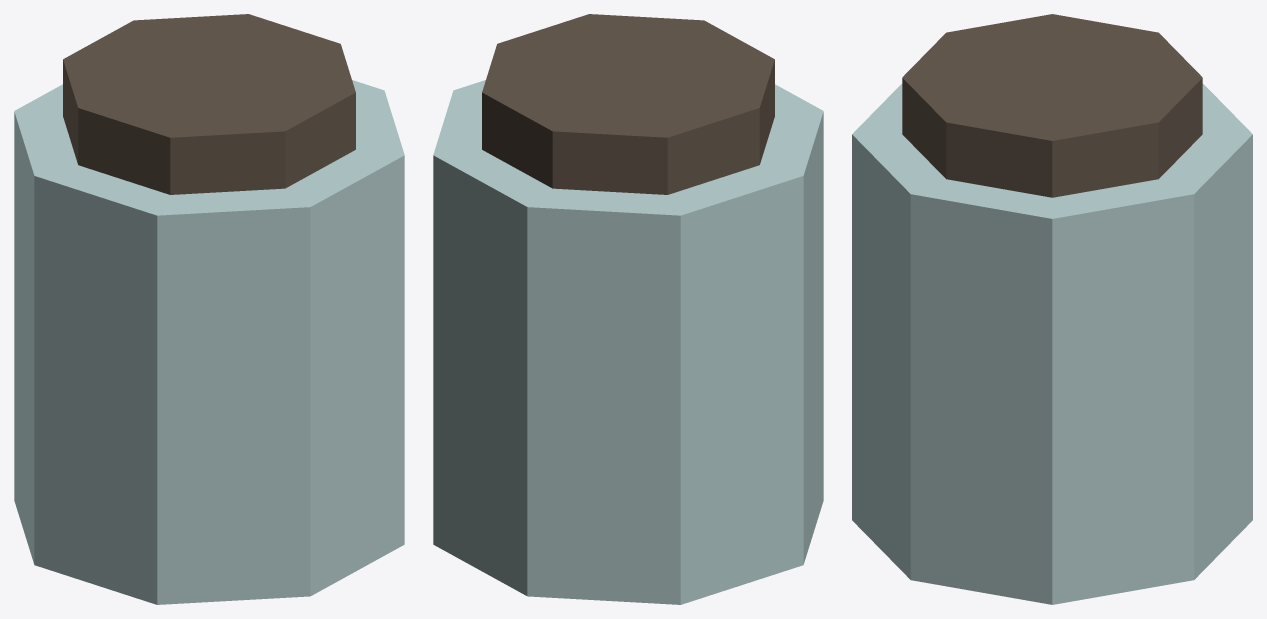
The model's file is hs_jar_tentacle.glb.
3 views of the same model, side by side, from view 1: azimuth 30°, elevation 25°; view 2: azimuth 150°, elevation 25°; view 3: azimuth 270°, elevation 25° (orthographic).
Visible parts, largest first — view 1: hs_jar_tentacle; view 2: hs_jar_tentacle; view 3: hs_jar_tentacle.
Part boxes in pixels (box(x1,y1,x2,y2)): hs_jar_tentacle: box(14, 14, 404, 604); hs_jar_tentacle: box(433, 14, 823, 604); hs_jar_tentacle: box(852, 14, 1252, 604).
Size of the model in its own units: 0.32 by 0.39 by 0.32.
